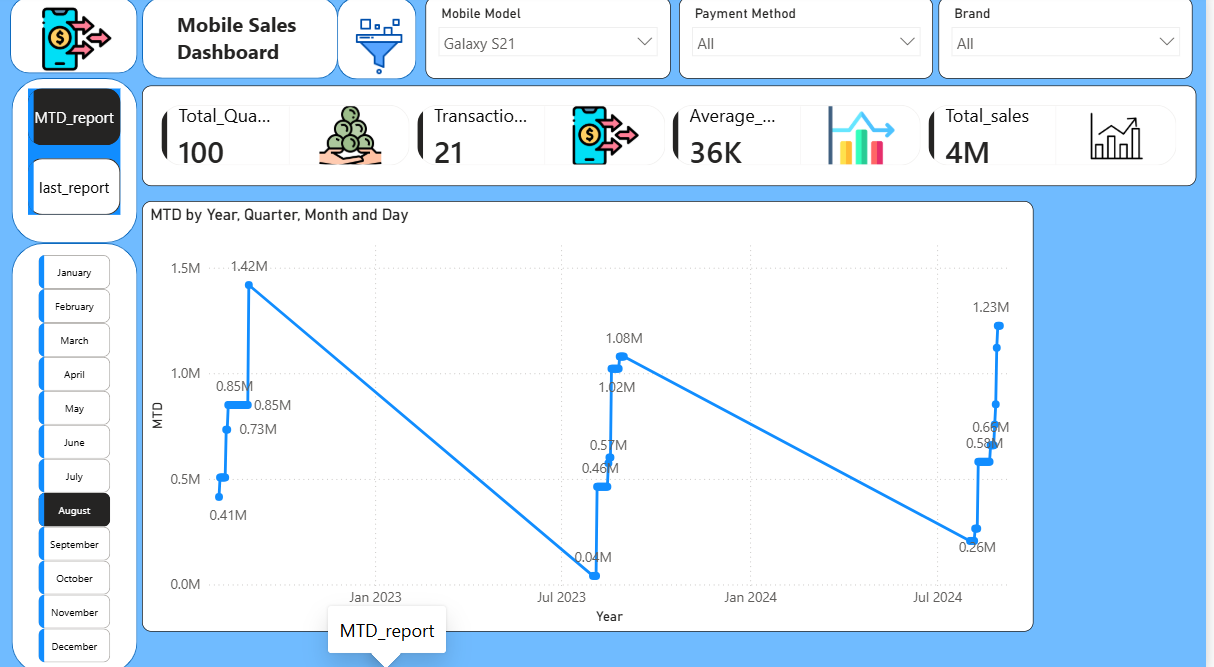

Layout of this report page (visuals, bound fields, positions):
{"tool":"powerbi","page":{"name":"MTD_report","canvas":[1280,720],"ordinal":1},"visuals":[{"type":"shape","box":[12.7,3.2,135.2,81.1],"z":0},{"type":"image","box":[38.5,11.6,90.7,73.2],"z":1000},{"type":"cardVisual","fields":{"Data":["sales_data.Total_Quantity","sales_data.Transactions","sales_data.Average_price","sales_data.Total_sales"]},"box":[152.7,97,1118.2,106.6],"z":2000},{"type":"slicer","fields":{"Values":["sales_data.Mobile Model"]},"box":[452.6,3.9,260,86.7],"z":3000},{"type":"slicer","fields":{"Values":["sales_data.Payment Method"]},"box":[722.2,3.9,269.6,86.7],"z":4000},{"type":"slicer","fields":{"Values":["sales_data.Brand"]},"box":[997.6,3.9,269.6,86.7],"z":5000},{"type":"shape","box":[360.1,3.9,84.3,87.5],"z":6000},{"type":"image","box":[373.6,0,60.4,111.3],"z":7000},{"type":"shape","box":[152.7,3.2,208,86.7],"z":8000},{"type":"textbox","box":[184.9,11.6,142.5,73.2],"z":9000},{"type":"shape","box":[14.3,89.1,133.6,175],"z":10000},{"type":"lineChart","fields":{"Category":["custom_calendor.Date.Variation.Date Hierarchy.Year","custom_calendor.Date.Variation.Date Hierarchy.Quarter","custom_calendor.Date.Variation.Date Hierarchy.Month","custom_calendor.Date.Variation.Date Hierarchy.Day"],"Y":["sales_data.MTD"]},"box":[153.3,220,945,456.7],"z":11000},{"type":"shape","box":[14.3,263.5,133.6,456.5],"z":12000},{"type":"advancedSlicerVisual","fields":{"Values":["custom_calendor.Date.Variation.Date Hierarchy.Month"]},"box":[42.9,276.2,76.3,443.8],"z":13000},{"type":"pageNavigator","box":[32,100,98,134],"z":14000}]}

Visuals, with their boxes in screenshot pixels (x1, y1, x2, y2), scaled from the page's 1280x720 canvas onto the 1214x667 screenshot:
shape: x1=12, y1=3, x2=140, y2=78
image: x1=37, y1=11, x2=123, y2=79
cardVisual - sales_data.Total_Quantity x sales_data.Transactions: x1=145, y1=90, x2=1205, y2=189
slicer - sales_data.Mobile Model: x1=429, y1=4, x2=676, y2=84
slicer - sales_data.Payment Method: x1=685, y1=4, x2=941, y2=84
slicer - sales_data.Brand: x1=946, y1=4, x2=1202, y2=84
shape: x1=342, y1=4, x2=421, y2=85
image: x1=354, y1=0, x2=412, y2=103
shape: x1=145, y1=3, x2=342, y2=83
textbox: x1=175, y1=11, x2=311, y2=79
shape: x1=14, y1=83, x2=140, y2=245
lineChart - custom_calendor.Date.Variation.Date Hierarchy.Year x custom_calendor.Date.Variation.Date Hierarchy.Quarter: x1=145, y1=204, x2=1042, y2=627
shape: x1=14, y1=244, x2=140, y2=666
advancedSlicerVisual - custom_calendor.Date.Variation.Date Hierarchy.Month: x1=41, y1=256, x2=113, y2=666
pageNavigator: x1=30, y1=93, x2=123, y2=217
